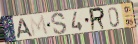0: (108, 6, 121, 28)
4: (71, 10, 84, 32)
A: (16, 17, 34, 39)
M: (28, 14, 50, 38)
R: (88, 6, 107, 32)
S: (50, 11, 68, 36)
